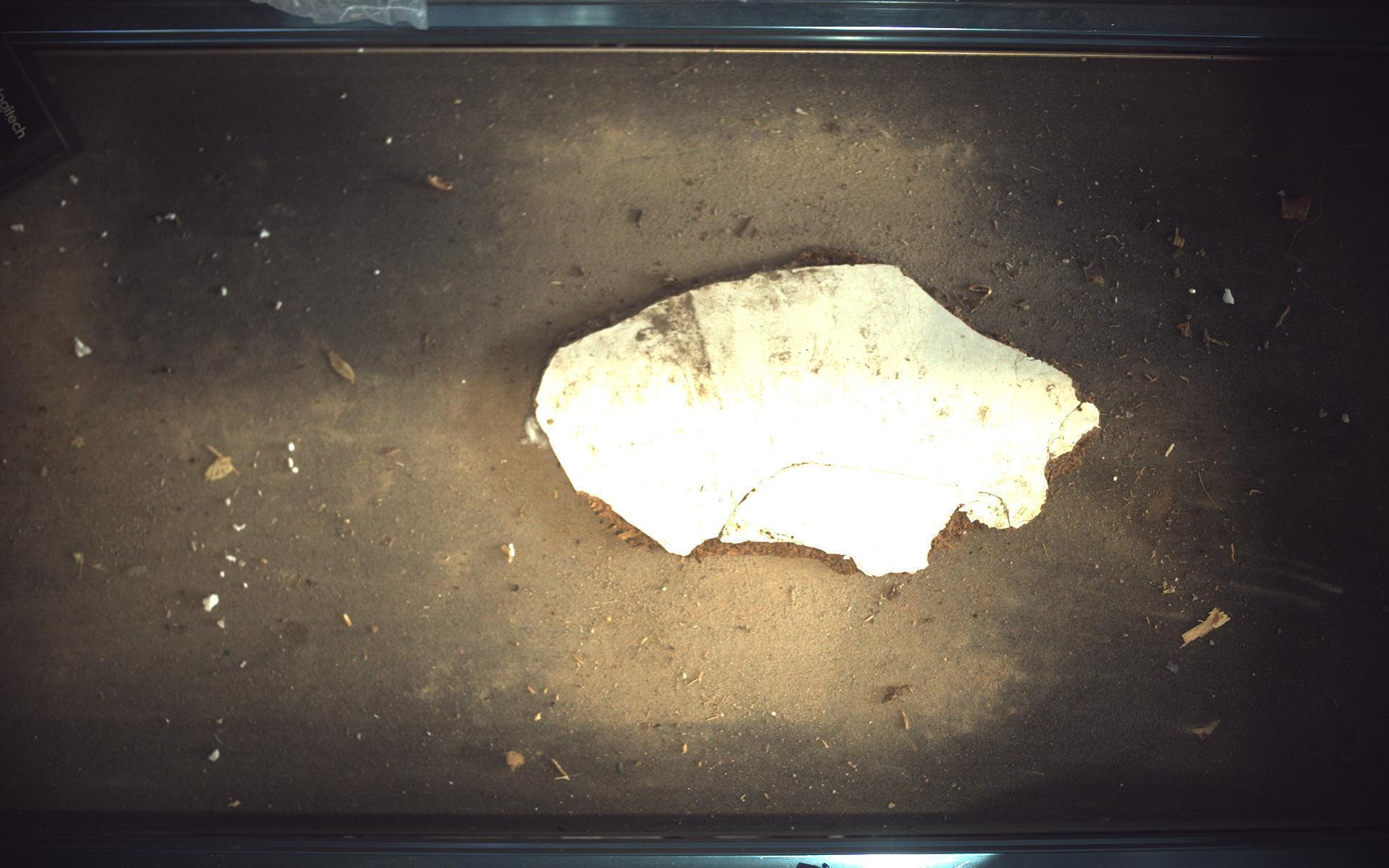wood: (529, 248, 1103, 576)
